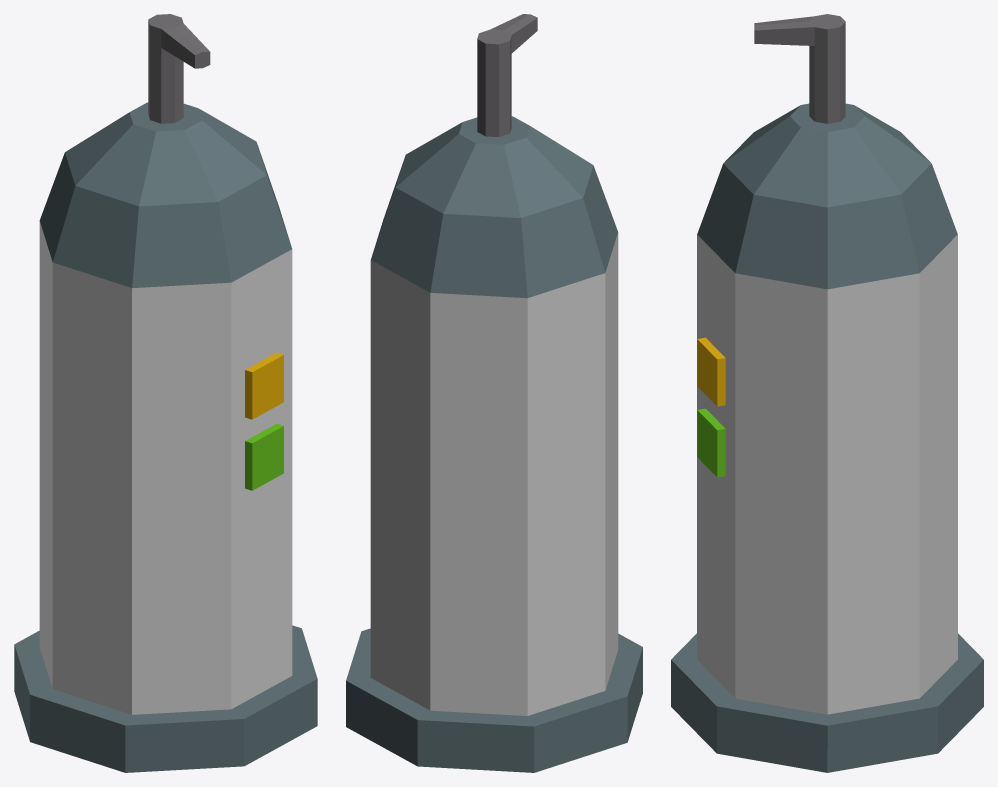
The model's file is scifi_cylinder_1.fbx.
3 renders of one model, left to right at view 1: azimuth 30°, elevation 25°; view 2: azimuth 150°, elevation 25°; view 3: azimuth 270°, elevation 25°, orthographic. The views are drawn at different scales.
Parts seen in each view (by area): view 1: Cylinder.001; view 2: Cylinder.001; view 3: Cylinder.001.
Boxes of the visible parts, x1,y1,x2,y2 form: Cylinder.001: (14, 14, 317, 772); Cylinder.001: (346, 14, 642, 772); Cylinder.001: (671, 14, 983, 772).
Bounding box in the file's own units: 0.6 × 1.45 × 0.6.
